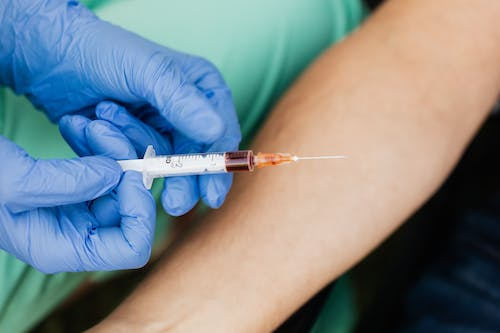blood: (222, 150, 293, 174)
